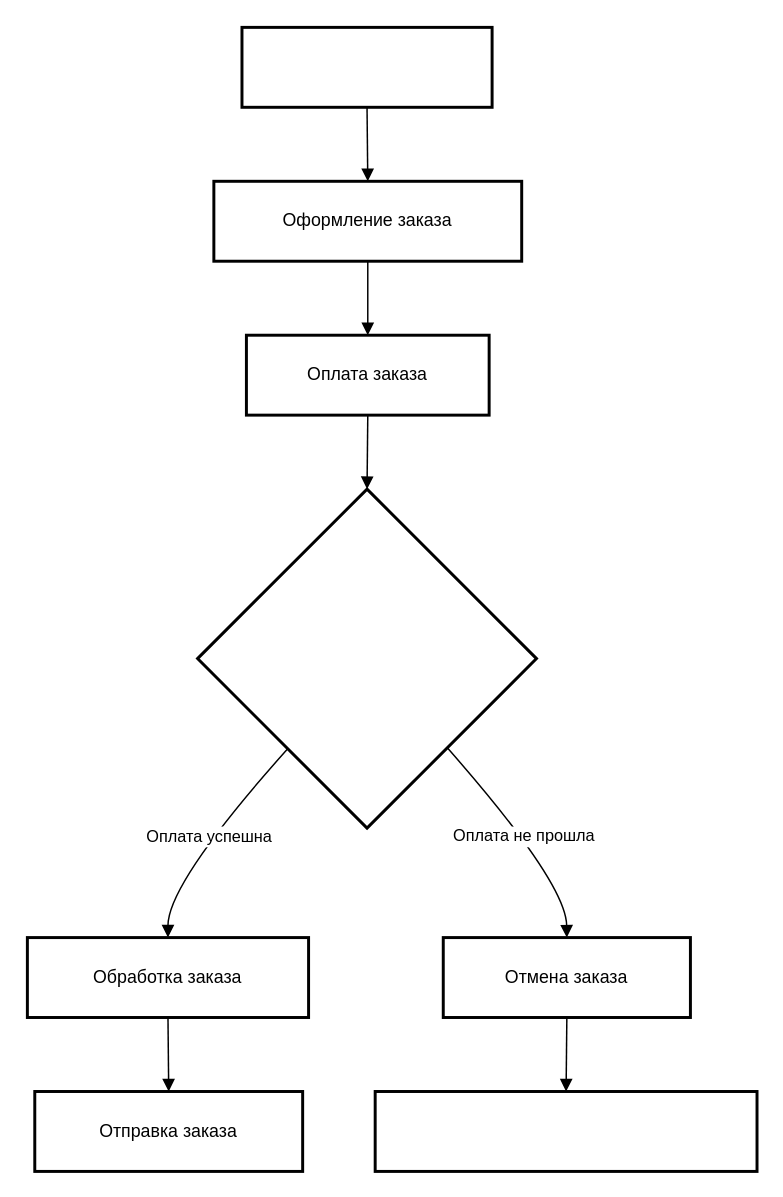
Some shapes in this 783 by 1197 pixel diagram are drawn without their labels. Each missing label, with the centre of its shape:
"Выбор товаров" goes at (x=366, y=66).
"Оповещение пользователя" goes at (x=565, y=1130).
"Подтверждение оплаты" goes at (x=366, y=658).
